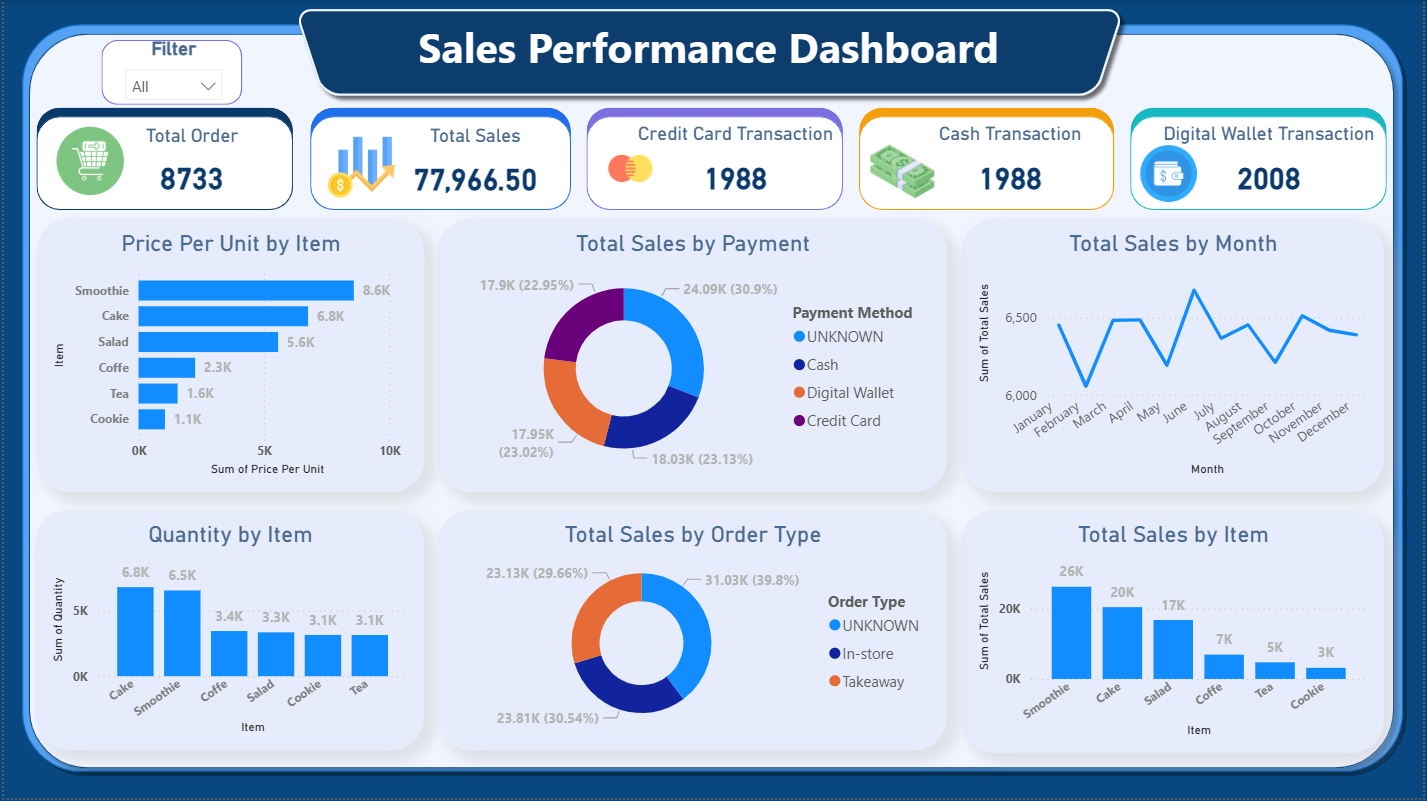

Layout of this report page (visuals, bound fields, positions):
{"tool":"powerbi","page":{"name":"Page 1","canvas":[1280,720],"ordinal":0},"visuals":[{"type":"shape","box":[11.2,17.4,1255.2,684.2],"z":0},{"type":"shape","box":[13.7,21.1,1248.9,680.4],"z":1000},{"type":"shape","box":[771.3,97,230.1,84.6],"z":2000},{"type":"shape","box":[771.3,104.5,230.1,84.6],"z":3000},{"type":"shape","box":[253.8,0,765,94.5],"z":4000},{"type":"textbox","box":[368.2,12.4,554.8,69.7],"z":5000},{"type":"card","title":"Cash Transaction","fields":{"Values":["dirty_cafe_sales.Cash Transaction"]},"box":[799.9,108.2,194.1,75.9],"z":6000},{"type":"shape","box":[1015.1,97,231.4,84.6],"z":7000},{"type":"shape","box":[1015.1,104.5,231.4,84.6],"z":8000},{"type":"shape","box":[525,97,231.4,84.6],"z":9000},{"type":"card","title":"Digital Wallet Transaction","fields":{"Values":["dirty_cafe_sales.Digital Wallet Transaction"]},"box":[1022.5,108.2,216.4,75.9],"z":10000},{"type":"shape","box":[525,104.5,231.4,84.6],"z":11000},{"type":"card","title":"Credit Card Transaction","fields":{"Values":["dirty_cafe_sales.Credit Card Transaction"]},"box":[549.8,108.2,199,75.9],"z":12000},{"type":"shape","box":[276.2,97,235.1,84.6],"z":13000},{"type":"shape","box":[276.2,104.5,235.1,84.6],"z":14000},{"type":"card","title":"Total Sales","fields":{"Values":["Sum(dirty_cafe_sales.Total Price)"]},"box":[329.6,109.5,171.7,75.9],"z":15000},{"type":"shape","box":[29.9,97,231.4,84.6],"z":16000},{"type":"shape","box":[29.9,104.5,231.4,84.6],"z":17000},{"type":"card","title":"Total Order","fields":{"Values":["dirty_cafe_sales.Total Sales"]},"box":[64.7,109.5,190.3,74.6],"z":18000},{"type":"shape","box":[88.3,36.1,126.9,58.5],"z":19000},{"type":"slicer","title":"Filter","fields":{"Values":["dirty_cafe_sales.Month No","dirty_cafe_sales.Day No"]},"box":[84.6,31.1,116.9,73.4],"z":20000},{"type":"lineChart","title":"Total Sales by Month","fields":{"Y":["Sum(dirty_cafe_sales.Total Sales)"],"Category":["dirty_cafe_sales.Transaction Date.Variation.Date Hierarchy.Month"]},"box":[863.3,197.8,380.7,246.3],"z":21000},{"type":"columnChart","title":"Total Sales by Item","fields":{"Category":["dirty_cafe_sales.Item"],"Y":["Sum(dirty_cafe_sales.Total Sales)"]},"box":[863.3,460.3,380.7,218.9],"z":22000},{"type":"donutChart","title":"Total Sales by Payment","fields":{"Y":["Sum(dirty_cafe_sales.Total Sales)"],"Category":["dirty_cafe_sales.Payment Method"]},"box":[390.6,197.8,459,246.3],"z":23000},{"type":"columnChart","title":"Quantity by Item","fields":{"Category":["dirty_cafe_sales.Item"],"Y":["Sum(dirty_cafe_sales.Quantity)"]},"box":[28.6,460.3,350.8,216.4],"z":24000},{"type":"donutChart","title":"Total Sales by Order Type","fields":{"Y":["Sum(dirty_cafe_sales.Total Sales)"],"Category":["dirty_cafe_sales.Order Type"]},"box":[390.6,460.3,459,216.4],"z":25000},{"type":"image","box":[47.3,113.2,61,64.7],"z":26000},{"type":"image","box":[292.3,118.2,61,64.7],"z":27000},{"type":"image","box":[531.2,119.4,68.4,64.7],"z":28000},{"type":"image","box":[780,123.2,59.7,63.4],"z":29000},{"type":"image","box":[1025,128.1,51,56],"z":30000},{"type":"clusteredBarChart","title":"Price Per Unit by Item","fields":{"Category":["dirty_cafe_sales.Item"],"Y":["Sum(dirty_cafe_sales.Price Per Unit)"]},"box":[29.9,197.8,349.6,246.3],"z":31000}]}

Visuals, with their boxes in screenshot pixels (x1, y1, x2, y2), scaled from the page's 1280x720 canvas onto the 1427x801 screenshot:
shape: [12, 19, 1412, 781]
shape: [15, 23, 1408, 780]
shape: [860, 108, 1116, 202]
shape: [860, 116, 1116, 210]
shape: [283, 0, 1136, 105]
textbox: [410, 14, 1029, 91]
"Cash Transaction" card: [892, 120, 1108, 205]
shape: [1132, 108, 1390, 202]
shape: [1132, 116, 1390, 210]
shape: [585, 108, 843, 202]
"Digital Wallet Transaction" card: [1140, 120, 1381, 205]
shape: [585, 116, 843, 210]
"Credit Card Transaction" card: [613, 120, 835, 205]
shape: [308, 108, 570, 202]
shape: [308, 116, 570, 210]
"Total Sales" card: [367, 122, 559, 206]
shape: [33, 108, 291, 202]
shape: [33, 116, 291, 210]
"Total Order" card: [72, 122, 284, 205]
shape: [98, 40, 240, 105]
"Filter" slicer: [94, 35, 225, 116]
"Total Sales by Month" lineChart: [962, 220, 1387, 494]
"Total Sales by Item" columnChart: [962, 512, 1387, 756]
"Total Sales by Payment" donutChart: [435, 220, 947, 494]
"Quantity by Item" columnChart: [32, 512, 423, 753]
"Total Sales by Order Type" donutChart: [435, 512, 947, 753]
image: [53, 126, 121, 198]
image: [326, 131, 394, 203]
image: [592, 133, 668, 205]
image: [870, 137, 936, 208]
image: [1143, 143, 1200, 205]
"Price Per Unit by Item" clusteredBarChart: [33, 220, 423, 494]
